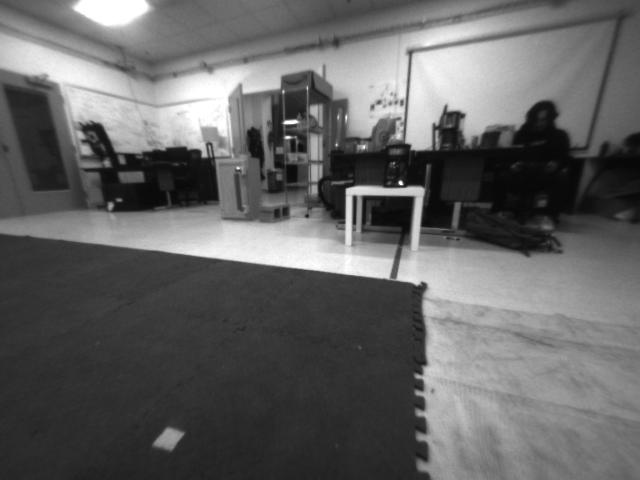coffee_pot: (379, 141, 414, 190)
